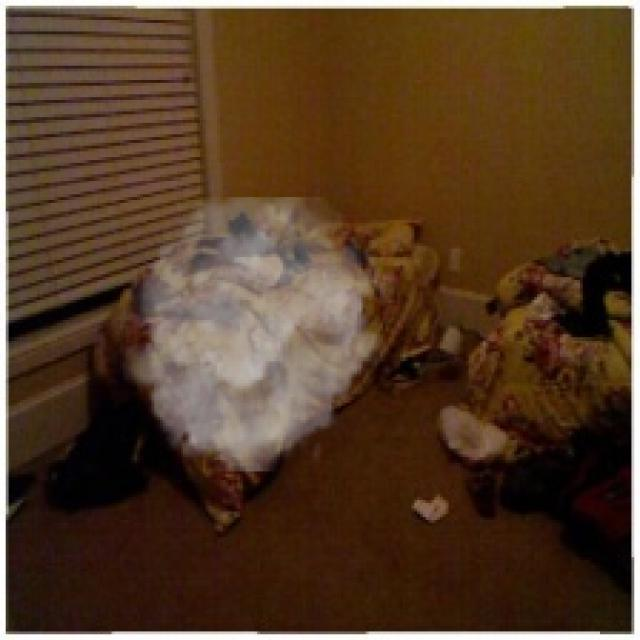Smoke: (120, 197, 389, 472)
